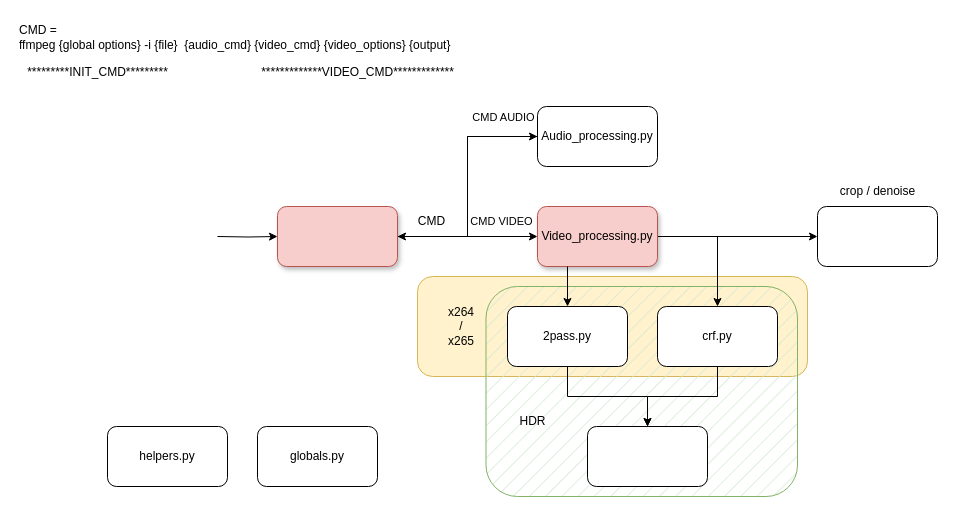
Image size: 955x514. Some labels were removed from this diagram. Each missing label, with the centre of its shape:
"hdr_functions.py" belongs at point (647, 456).
"script.py" belongs at point (338, 238).
"video_filters.py" belongs at point (877, 236).
